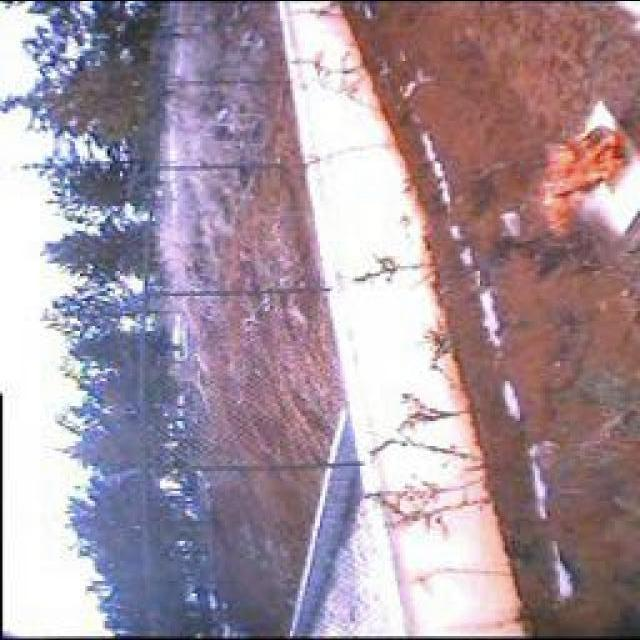Fire: (530, 125, 637, 238)
